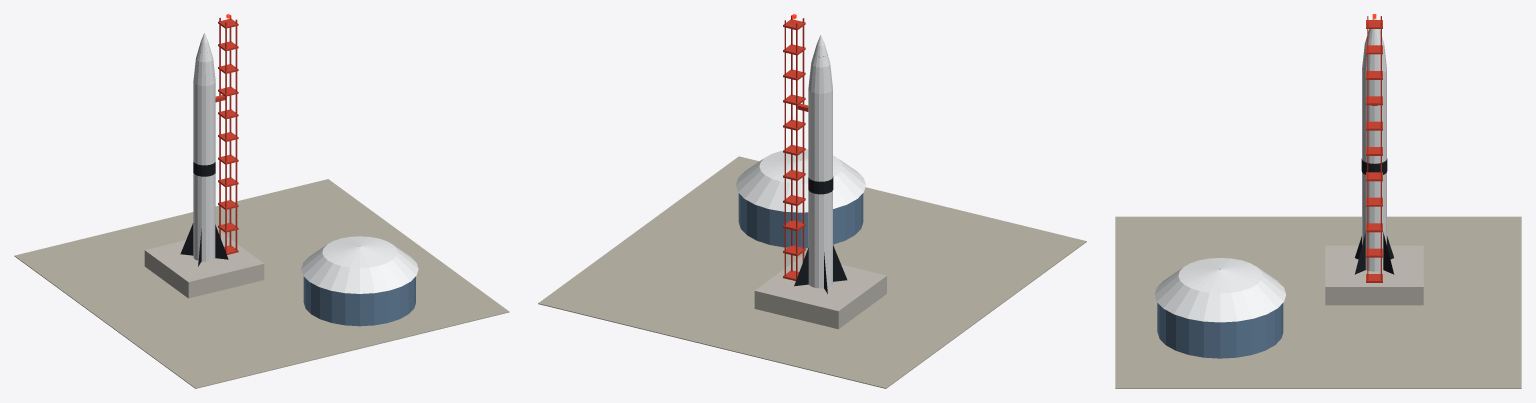
The model's file is orbital_hotel.glb.
3 renders of one model, left to right at view 1: azimuth 30°, elevation 25°; view 2: azimuth 150°, elevation 25°; view 3: azimuth 270°, elevation 25°, orthographic. The views are drawn at different scales.
Parts seen in each view (by area): view 1: Orbital_static; view 2: Orbital_static; view 3: Orbital_static.
Part boxes in pixels (x1,y1,x2,y2): Orbital_static: (14, 14, 509, 388); Orbital_static: (538, 14, 1086, 388); Orbital_static: (1115, 14, 1521, 388).
Bounding box in the file's own units: 58 × 44.7 × 58.
